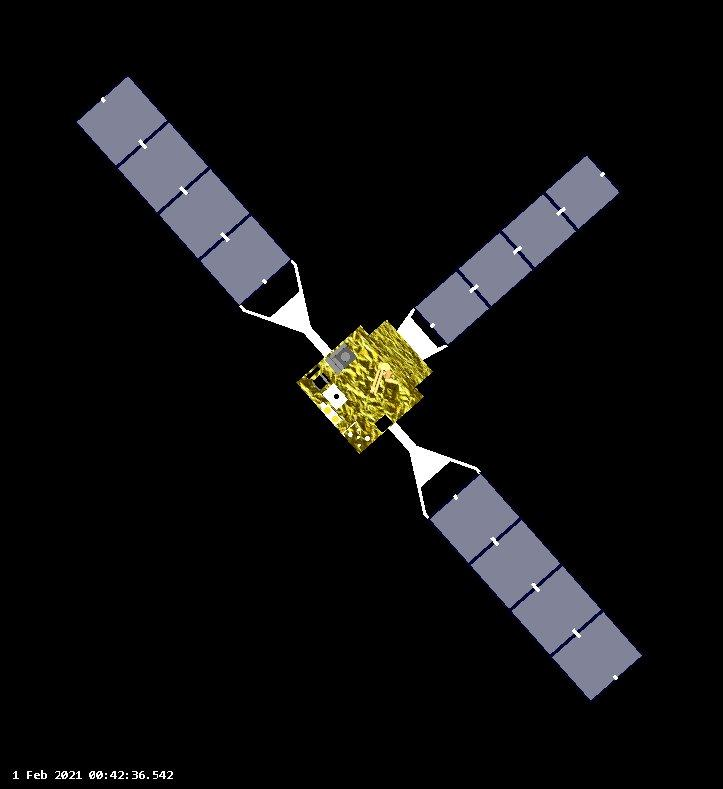body: (293, 317, 436, 458)
solar: (73, 73, 293, 308), (426, 469, 646, 704), (412, 153, 622, 348)
